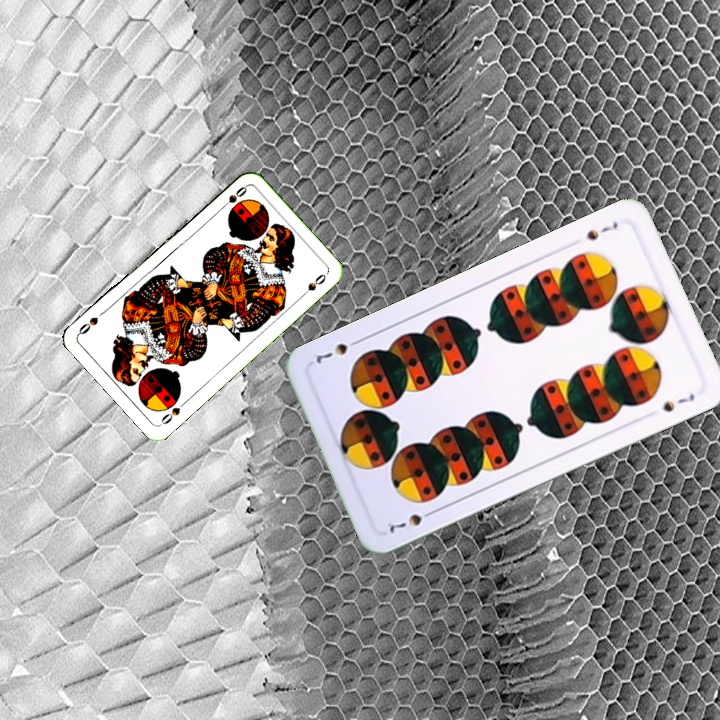S7: (383, 506, 438, 536), (582, 217, 621, 243)
SO: (216, 182, 250, 213), (156, 397, 190, 428)
